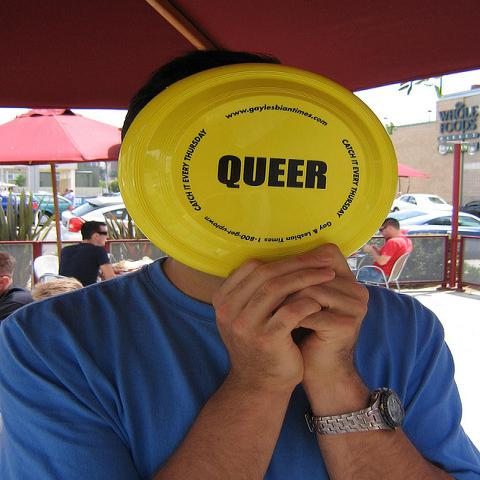car: (60, 194, 129, 237), (388, 208, 479, 236), (30, 193, 73, 225), (390, 193, 453, 213), (1, 195, 20, 216), (461, 200, 479, 217)
